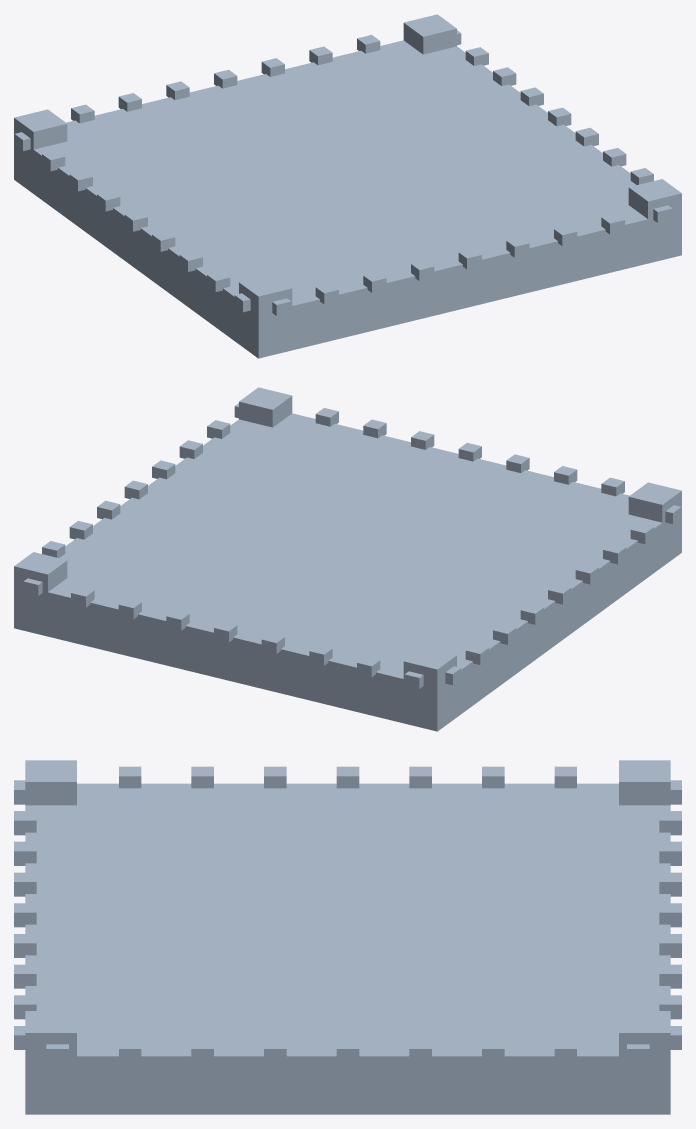
The model's file is 02_sample_detail.glb.
The picture shows the model from 3 angles, top to bottom: view 1: azimuth 30°, elevation 25°; view 2: azimuth 150°, elevation 25°; view 3: azimuth 270°, elevation 25°; orthographic projection. The views are drawn at different scales.
Bounding box in the file's own units: 10.35 × 1.4 × 10.35.
